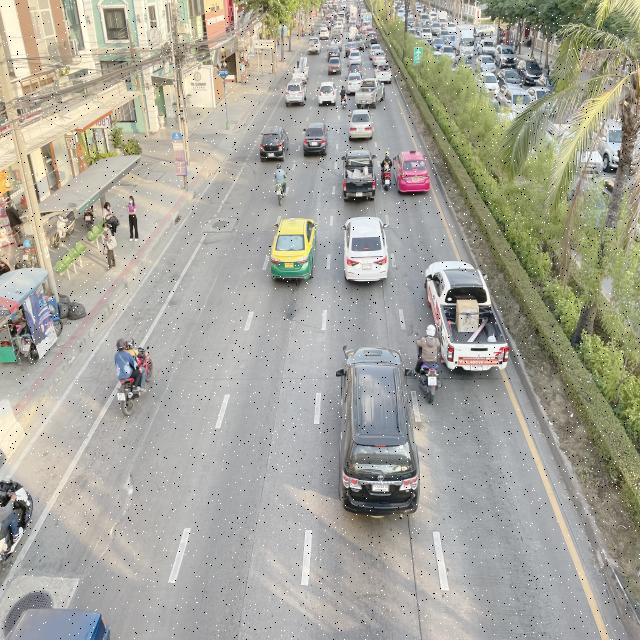bike: (109, 327, 155, 420), (411, 320, 446, 409), (376, 145, 396, 194), (273, 163, 289, 208), (339, 83, 348, 110)
car: (334, 341, 422, 519), (424, 260, 511, 372), (340, 214, 390, 284), (268, 216, 318, 285), (341, 149, 377, 203), (392, 147, 430, 194), (259, 125, 290, 163), (303, 120, 330, 158), (355, 78, 386, 108), (347, 108, 374, 140), (284, 78, 308, 108), (317, 81, 338, 107), (344, 72, 364, 93), (374, 62, 392, 84)
truck: (290, 55, 309, 86)
